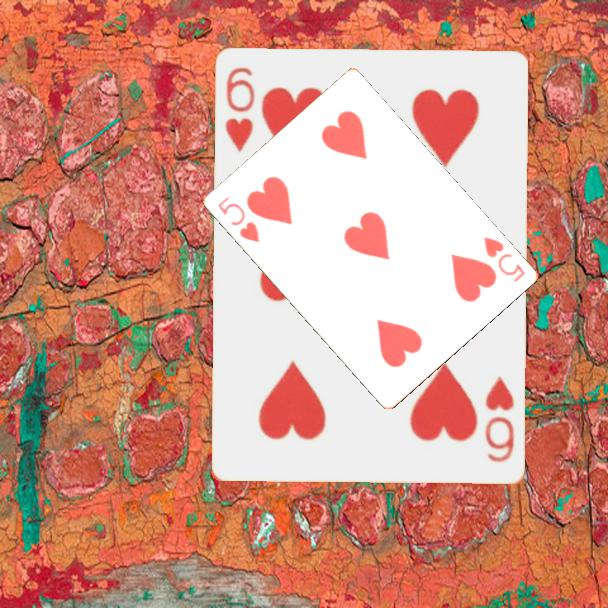h05: (214, 193, 262, 245), (480, 233, 528, 285)
h06: (482, 373, 518, 466), (222, 65, 258, 156)
